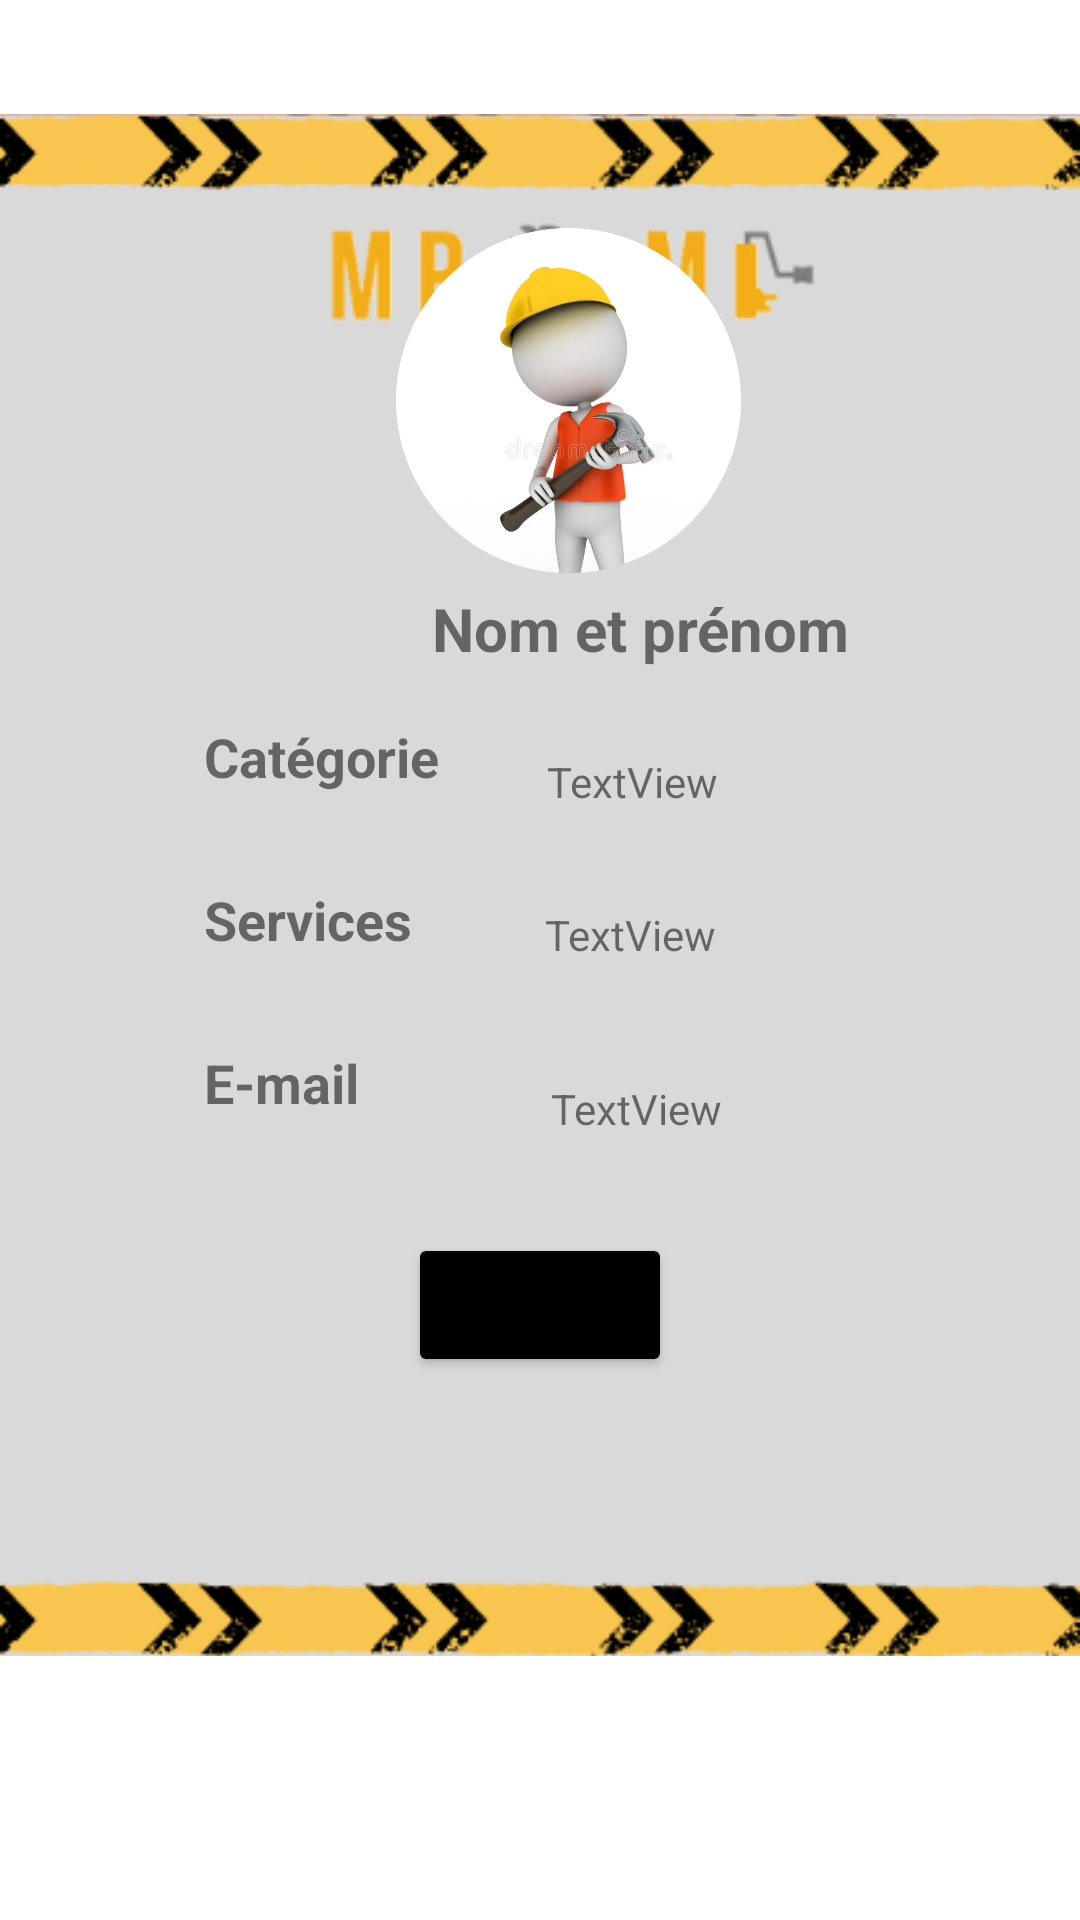

Named icons in this screenshot (1080 x 1920) and their bounding boxes, [x1, y1, x2, y2]:
rajelmodified: [396, 228, 741, 573]
